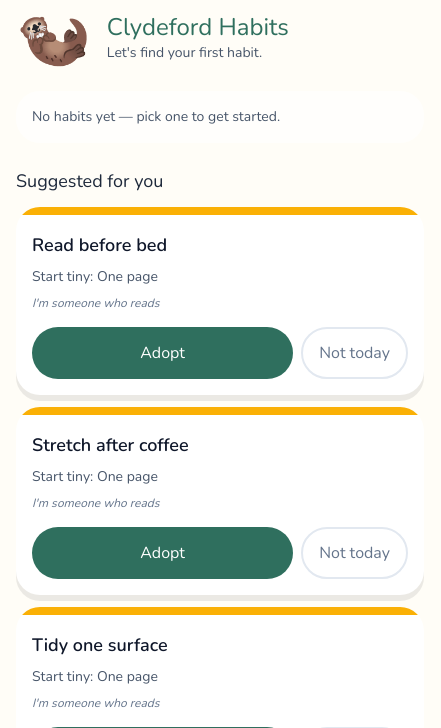
Scenario: Today screen › removes a dismissed suggestion from the deck
The width and height of the screenshot is (441, 728).
Click the button "Not today" below "Read before bed": (355, 353) [301,327,408,379]
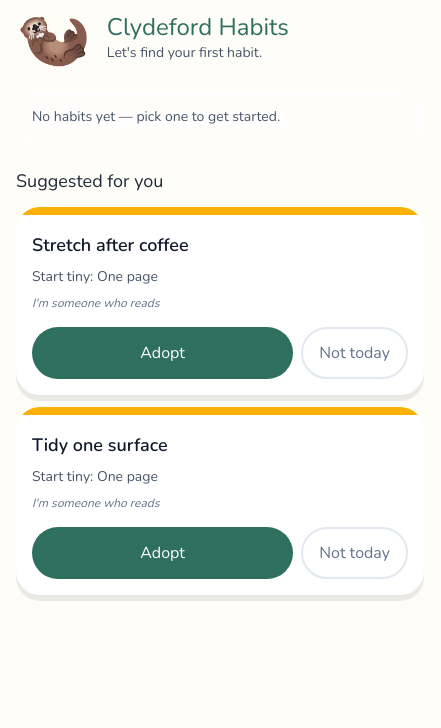
Expected: the heading "Stretch after coffee" is shown, [32,233,189,257]
Now the heading "Read before bed" is gone
